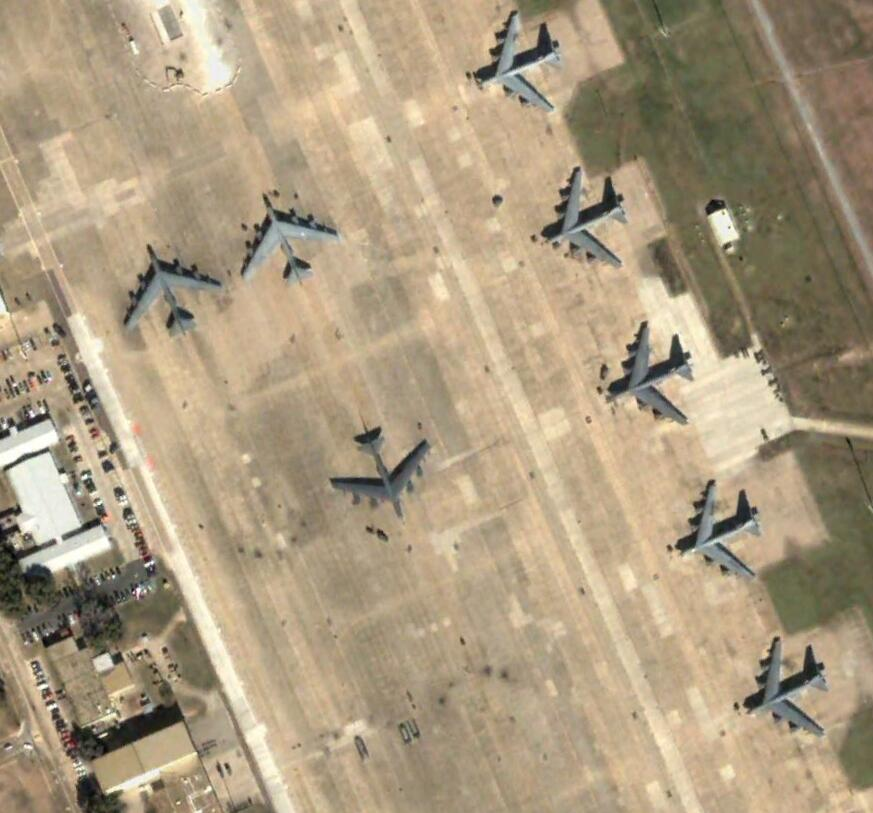A8: (327, 419, 433, 527), (536, 162, 633, 273), (116, 246, 226, 341), (739, 631, 832, 742), (238, 193, 341, 290), (607, 317, 698, 426), (474, 7, 564, 115), (675, 475, 764, 584)
